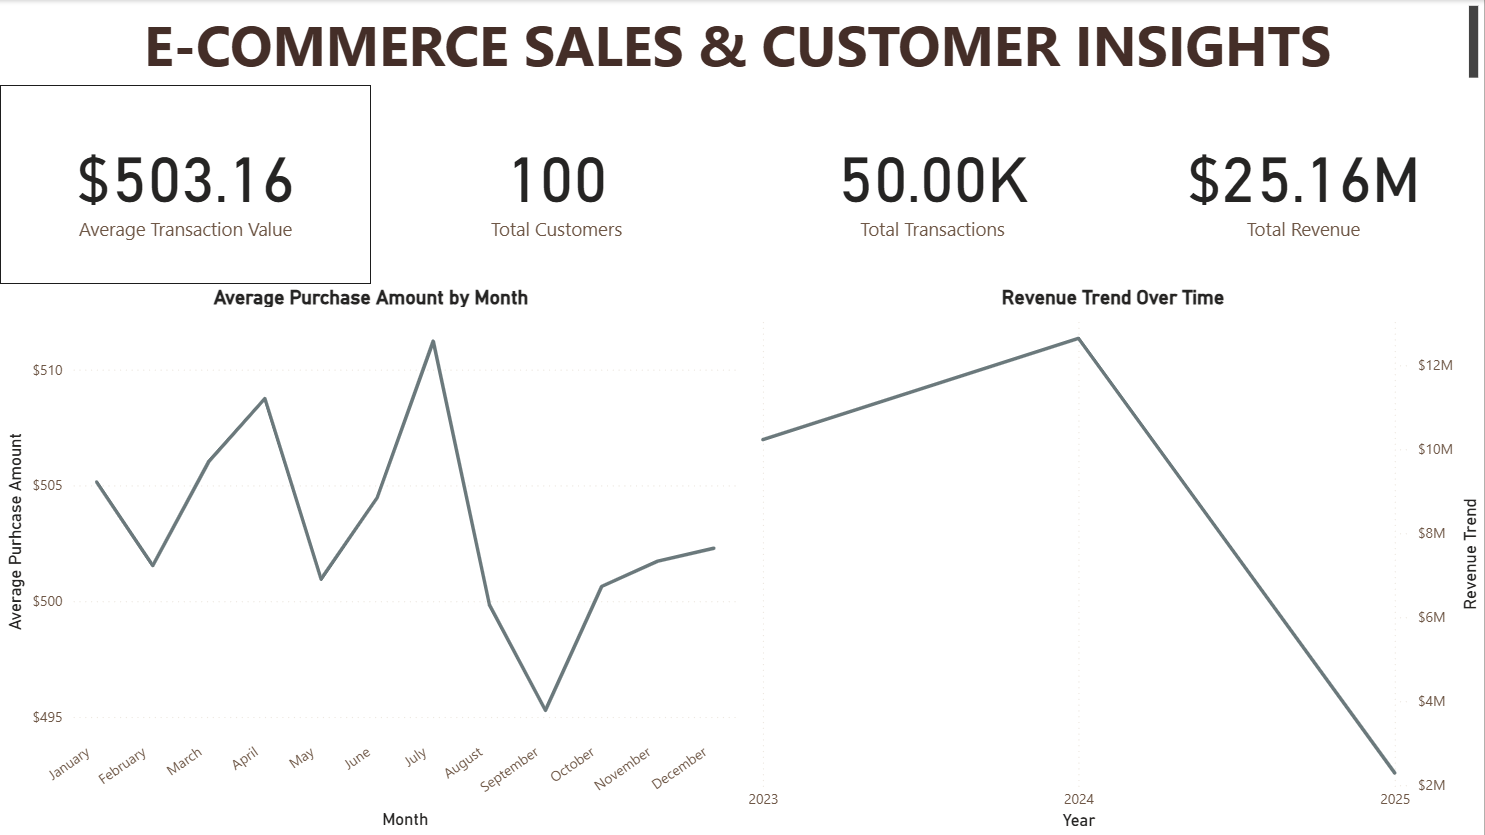

The page's visual inventory and layout, read from the dashboard file:
{"tool":"powerbi","page":{"name":"Business Overview","canvas":[1280,720],"ordinal":0},"visuals":[{"type":"lineChart","title":"Revenue Trend Over Time","fields":{"Category":["ecommerce_transactions.Transaction_Date.Variation.Date Hierarchy.Year","ecommerce_transactions.Transaction_Date.Variation.Date Hierarchy.Quarter","ecommerce_transactions.Transaction_Date.Variation.Date Hierarchy.Month","ecommerce_transactions.Transaction_Date.Variation.Date Hierarchy.Day"],"Y2":["Sum(ecommerce_transactions.Purchase_Amount)"]},"box":[640,245.8,640,474.4],"z":0},{"type":"card","fields":{"Values":["Sum(Query7.TotalRevenueFormatted)"]},"box":[968.6,73.3,311.4,171.6],"z":1000},{"type":"card","fields":{"Values":["CountNonNull(ecommerce_transactions.Transaction_ID)"]},"box":[640,73.3,328.6,171.6],"z":2000},{"type":"card","fields":{"Values":["Count(ecommerce_transactions.User_Name)"]},"box":[320,73.3,320,171.6],"z":3000},{"type":"lineChart","title":"Average Purchase Amount by Month","fields":{"Category":["ecommerce_transactions.Transaction_Date.Variation.Date Hierarchy.Month","ecommerce_transactions.Transaction_Date.Variation.Date Hierarchy.Day"],"Y":["Avg(ecommerce_transactions.Purchase_Amount)"]},"box":[0,245.8,640,473.5],"z":4000},{"type":"card","fields":{"Values":["ecommerce_transactions.Average Transaction Value"]},"box":[0,73.3,320,171.6],"z":5000},{"type":"textbox","box":[0,0,1280,73.3],"z":6000}]}

Visuals, with their boxes in screenshot pixels (x1, y1, x2, y2), scaled from the page's 1280x720 canvas onto the 1485x835 screenshot:
"Revenue Trend Over Time" lineChart: locate(742, 285, 1484, 834)
card - Sum(Query7.TotalRevenueFormatted): locate(1124, 85, 1484, 284)
card - CountNonNull(ecommerce_transactions.Transaction_ID): locate(742, 85, 1124, 284)
card - Count(ecommerce_transactions.User_Name): locate(371, 85, 742, 284)
"Average Purchase Amount by Month" lineChart: locate(0, 285, 742, 834)
card - ecommerce_transactions.Average Transaction Value: locate(0, 85, 371, 284)
textbox: locate(0, 0, 1484, 85)
